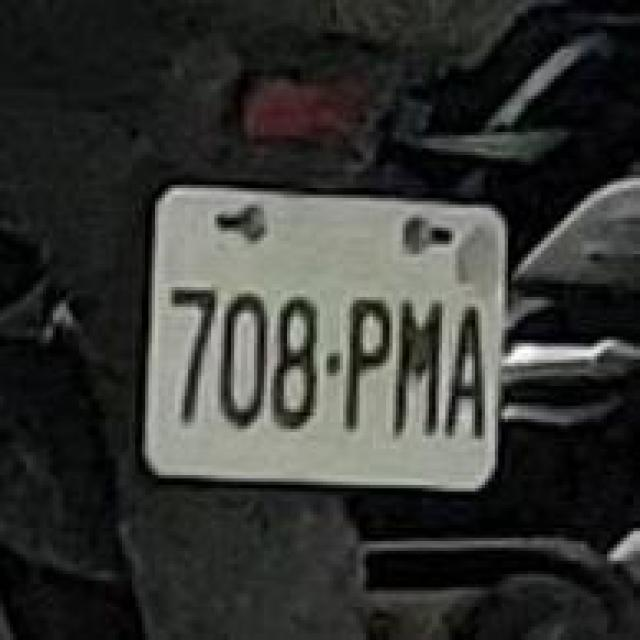W: (132, 165, 538, 505)
